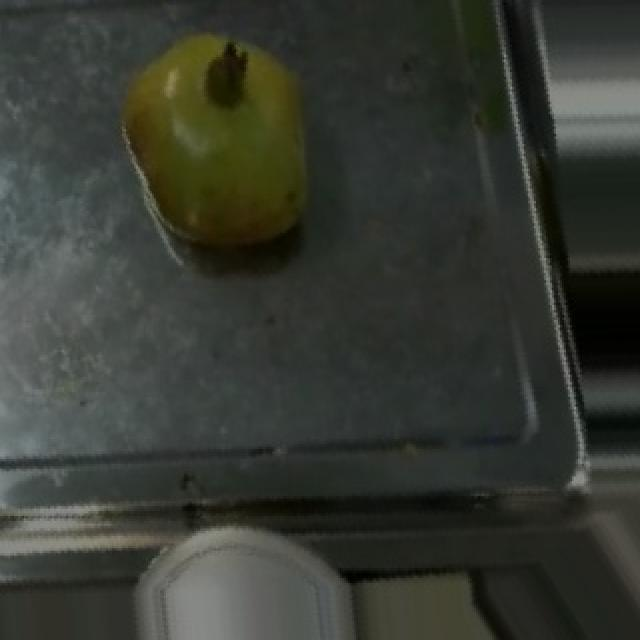fruit: (78, 0, 348, 273)
